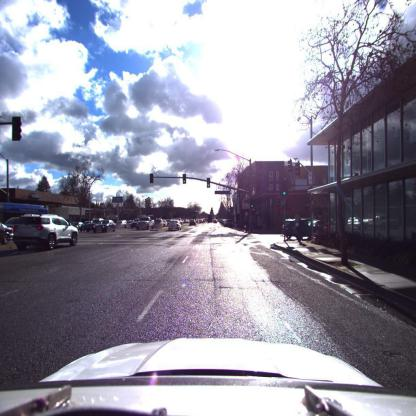car: (11, 215, 80, 252), (82, 219, 116, 234), (0, 222, 14, 244), (135, 218, 153, 230), (167, 220, 181, 231), (208, 212, 218, 224), (117, 219, 127, 231), (189, 219, 197, 226)
traffic light: (12, 117, 22, 142), (149, 173, 155, 183), (181, 174, 186, 184), (206, 176, 210, 188)
